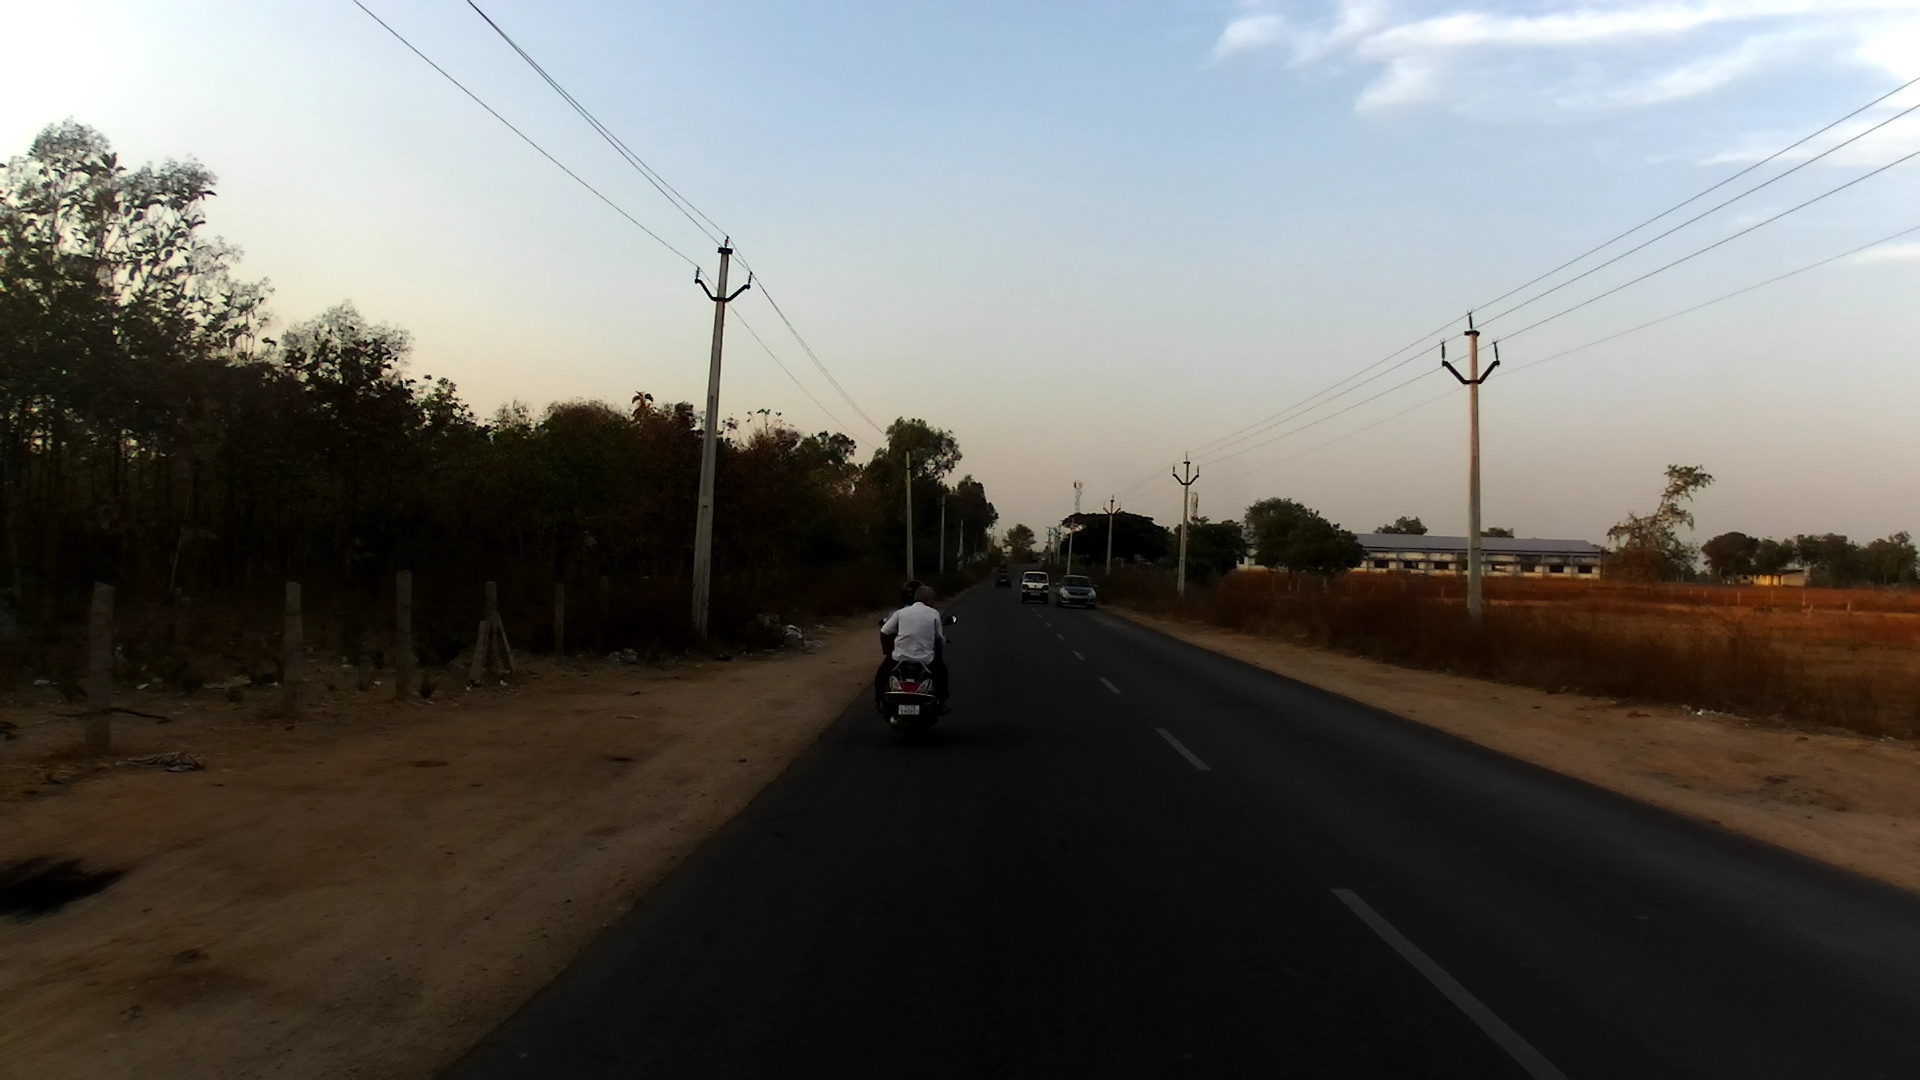car: (1054, 570, 1101, 610), (1020, 566, 1053, 607), (993, 572, 1014, 585)
motorcycle: (876, 608, 966, 748), (1000, 564, 1010, 576)
rider: (877, 584, 950, 713), (878, 574, 947, 660), (997, 555, 1010, 572)
